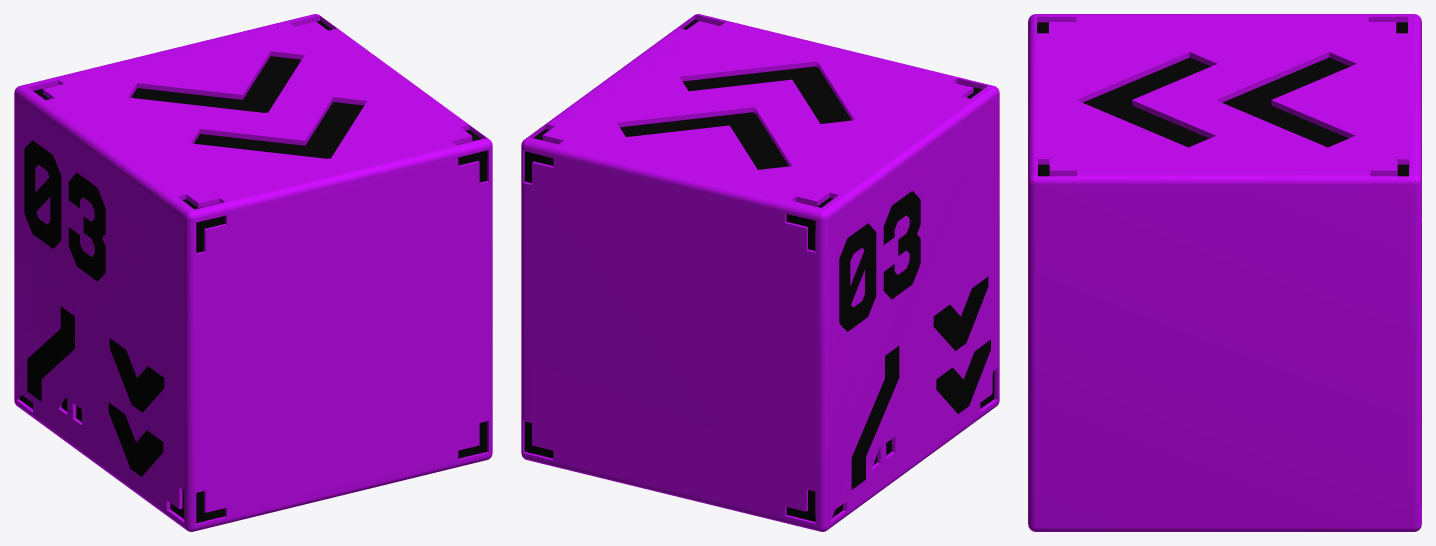
File: cube_down_03.fbx
The picture shows the model from 3 angles, left to right: view 1: azimuth 30°, elevation 25°; view 2: azimuth 150°, elevation 25°; view 3: azimuth 270°, elevation 25°; orthographic projection. The views are drawn at different scales.
Visible parts, largest first — view 1: Cube, Plane, Text.001, Text.075, Plane.002, Text.074, Text.063; view 2: Cube, Plane, Text.001, Text.075, Plane.003, Text.074, Text.063; view 3: Cube, Plane.
Boxes of the visible parts, <box> form: Cube: <box>14,14,492,531</box>; Plane: <box>33,20,481,209</box>; Text.001: <box>24,140,105,281</box>; Text.075: <box>27,306,74,401</box>; Plane.002: <box>196,150,487,523</box>; Text.074: <box>109,338,164,412</box>; Text.063: <box>108,402,163,476</box>; Cube: <box>521,14,999,531</box>; Plane: <box>533,19,982,207</box>; Text.001: <box>839,191,920,331</box>; Text.075: <box>851,346,899,489</box>; Plane.003: <box>524,151,815,521</box>; Text.074: <box>933,277,988,350</box>; Text.063: <box>936,339,990,413</box>; Cube: <box>1028,14,1421,531</box>; Plane: <box>1037,22,1408,176</box>.
Size of the model in its own units: 205 by 200 by 200.
